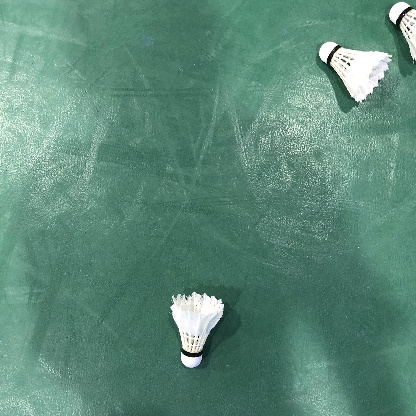ball_single: (319, 42, 392, 102), (171, 292, 224, 368), (389, 2, 416, 62)
